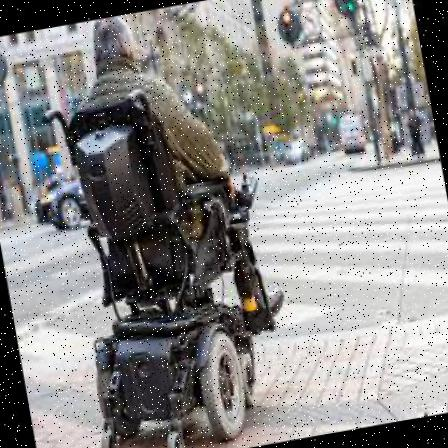wheel: (27, 0, 307, 447)
